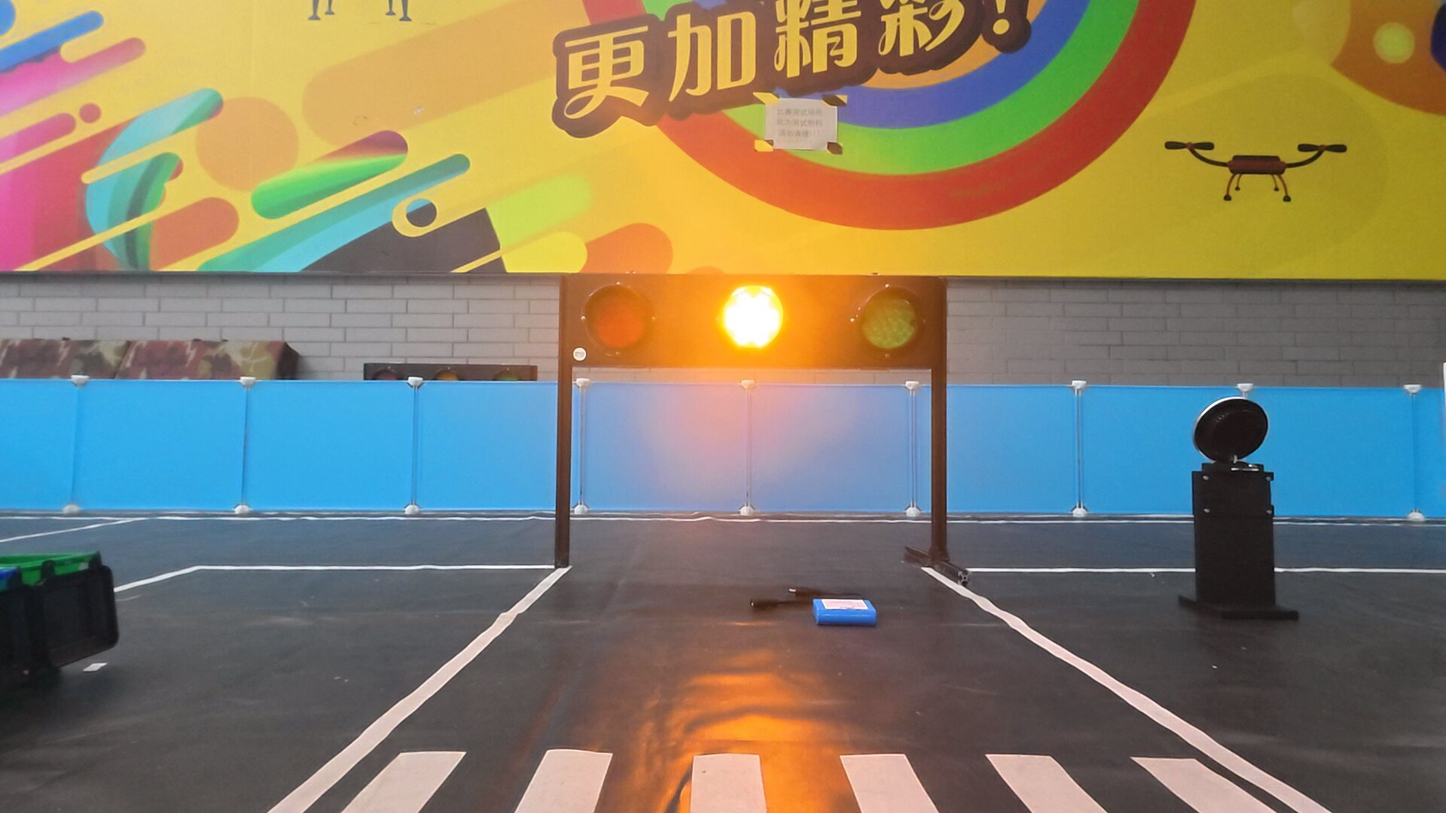stop: (716, 282, 788, 353)
